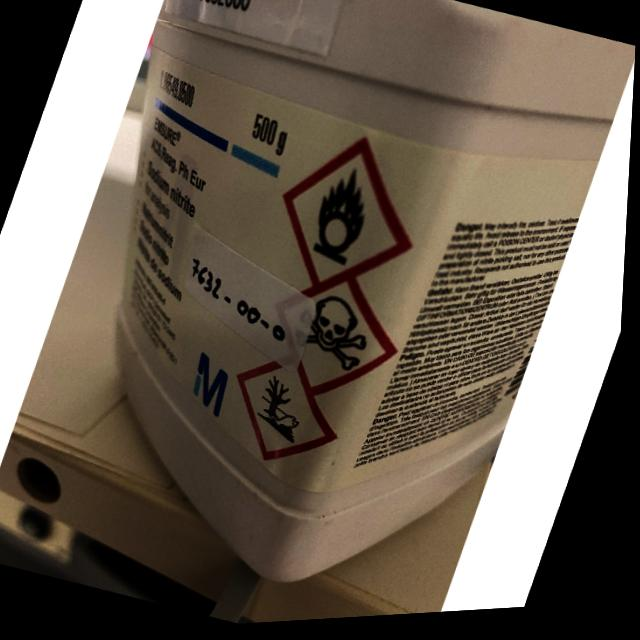acute toxicity: (288, 290, 383, 379)
hazardous to the environment: (252, 374, 321, 450)
oxidising: (305, 164, 381, 272)
